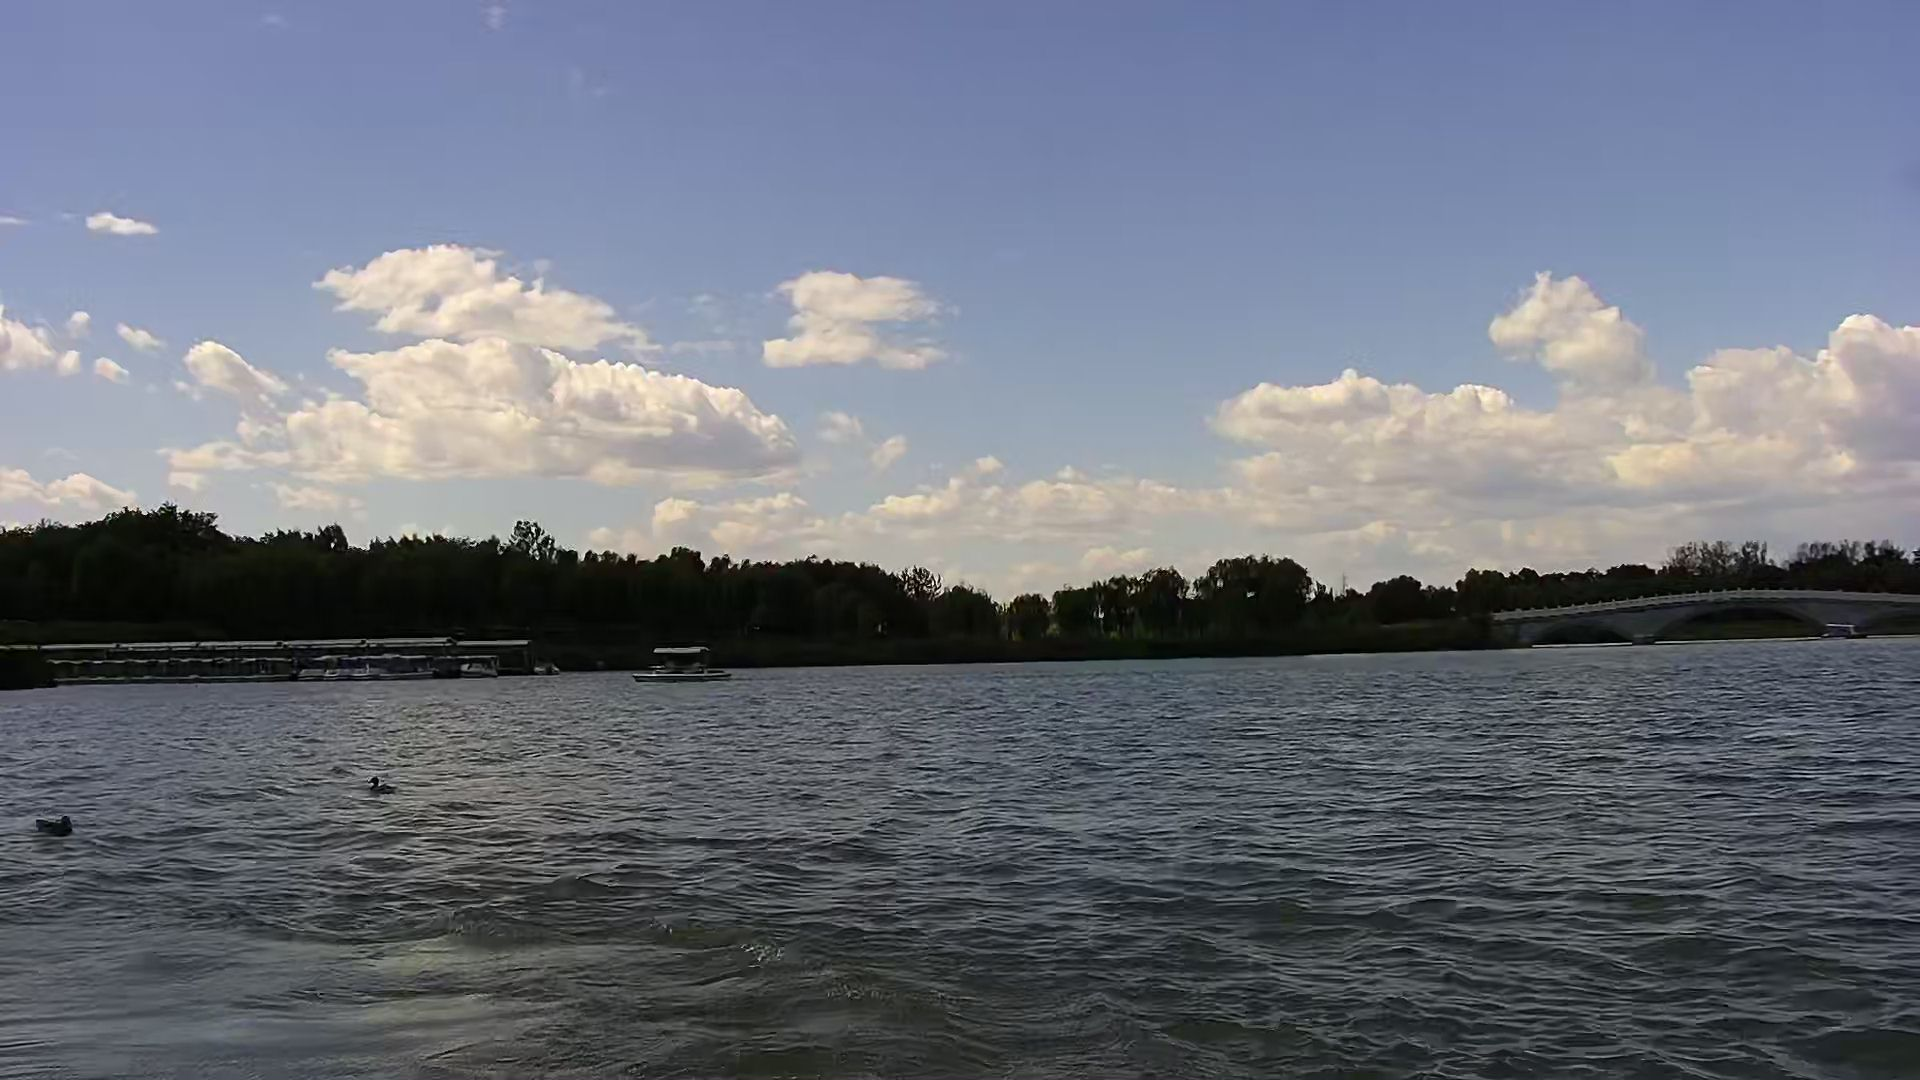animal: (359, 770, 409, 804), (29, 808, 76, 844)
boat: (633, 641, 742, 688)
bridge: (1484, 588, 1920, 655)
harbor: (1, 636, 543, 683)
